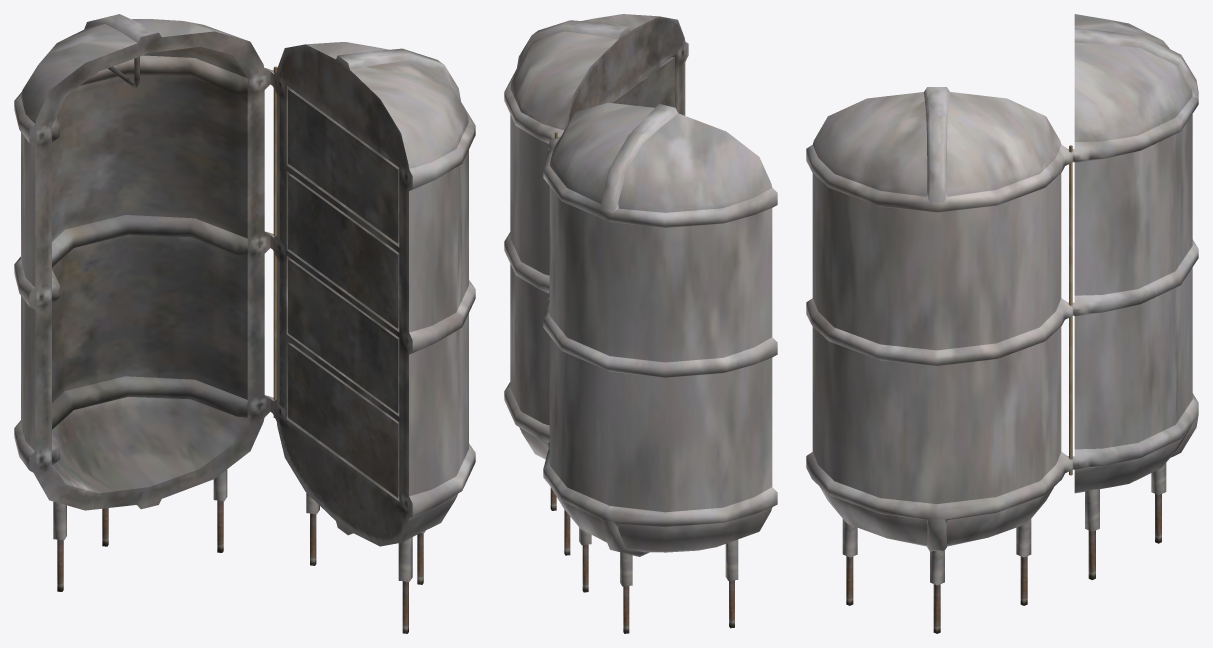
The model's file is eqp_travel_luggage_l0.fbx.
The picture shows the model from 3 angles, left to right: view 1: azimuth 30°, elevation 25°; view 2: azimuth 150°, elevation 25°; view 3: azimuth 270°, elevation 25°; orthographic projection. The views are drawn at different scales.
Visible parts, largest first — view 1: mesh_node; view 2: mesh_node; view 3: mesh_node.
Part boxes in pixels (x1,y1,x2,y2): mesh_node: [14, 14, 475, 633]; mesh_node: [504, 14, 777, 633]; mesh_node: [806, 14, 1198, 633].
Bounding box in the file's own units: 0.7924 × 1.16 × 0.8084.
